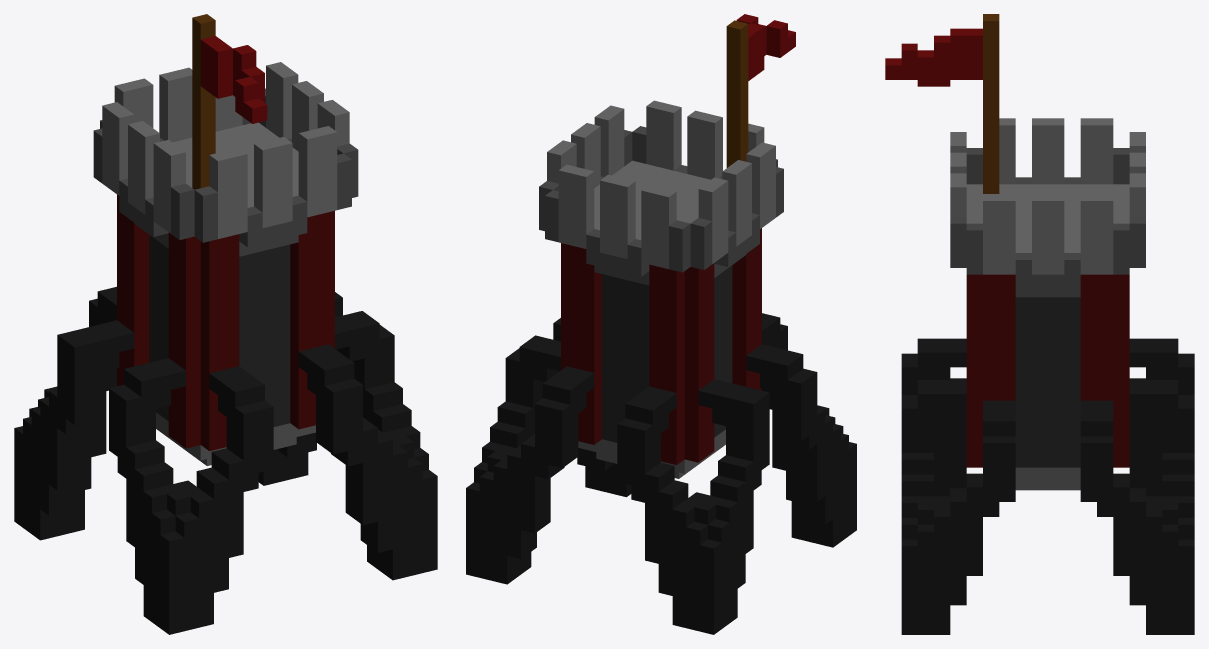
The model's file is FireTower_01.obj.
The picture shows the model from 3 angles, left to right: view 1: azimuth 30°, elevation 25°; view 2: azimuth 150°, elevation 25°; view 3: azimuth 270°, elevation 25°; orthographic projection. The views are drawn at different scales.
Size of the model in its own units: 18 by 36 by 19.
1 material, 1 textured.
